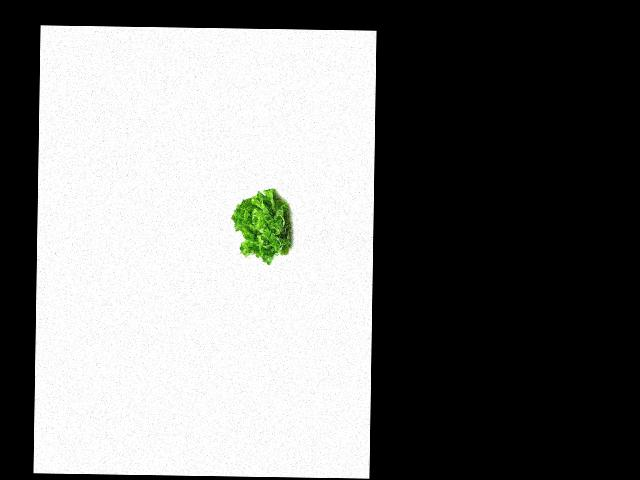lettuce: (231, 189, 294, 264)
